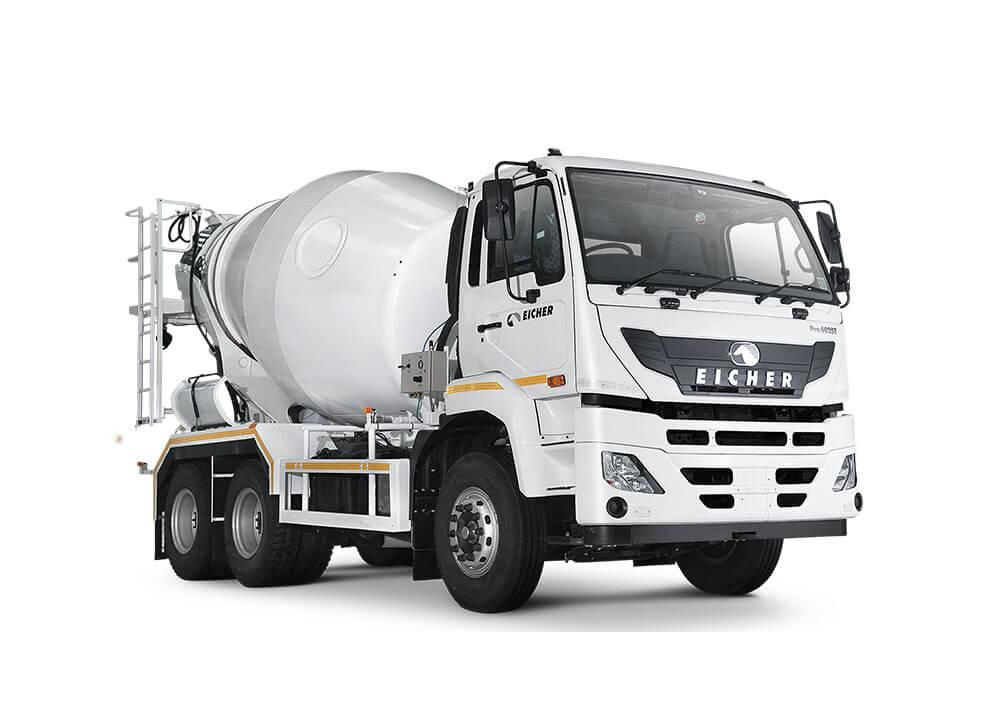truck: (127, 148, 864, 614)
